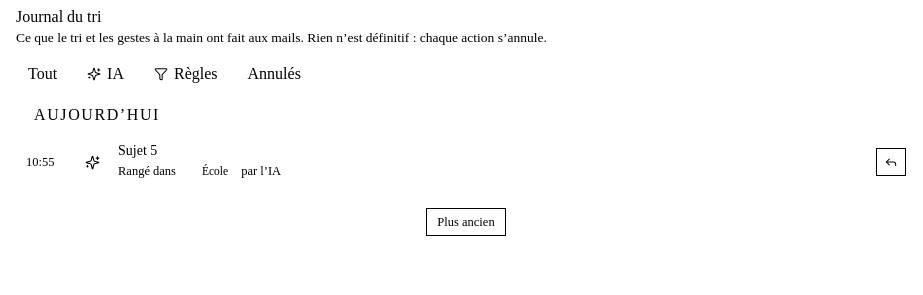
Test: Journal › loads the older entries with « Plus ancien »
Expected: the text "Sujet 5" is shown, [118, 143, 157, 158]
Click the button "Plus ancien". click: (466, 222)
box: [426, 208, 506, 236]
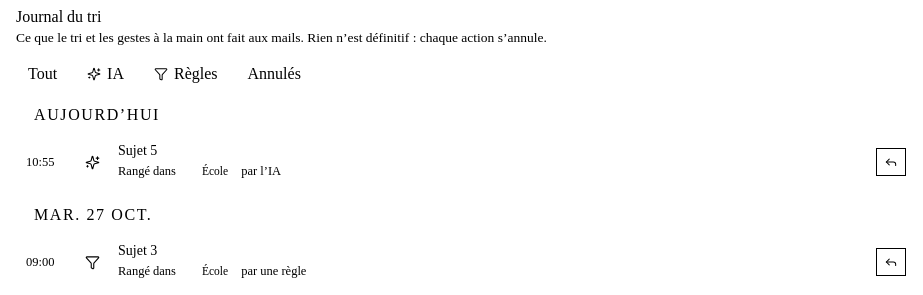
Now the text "Sujet 3" is shown, box [118, 243, 157, 258]
Now the button "Plus ancien" is gone
